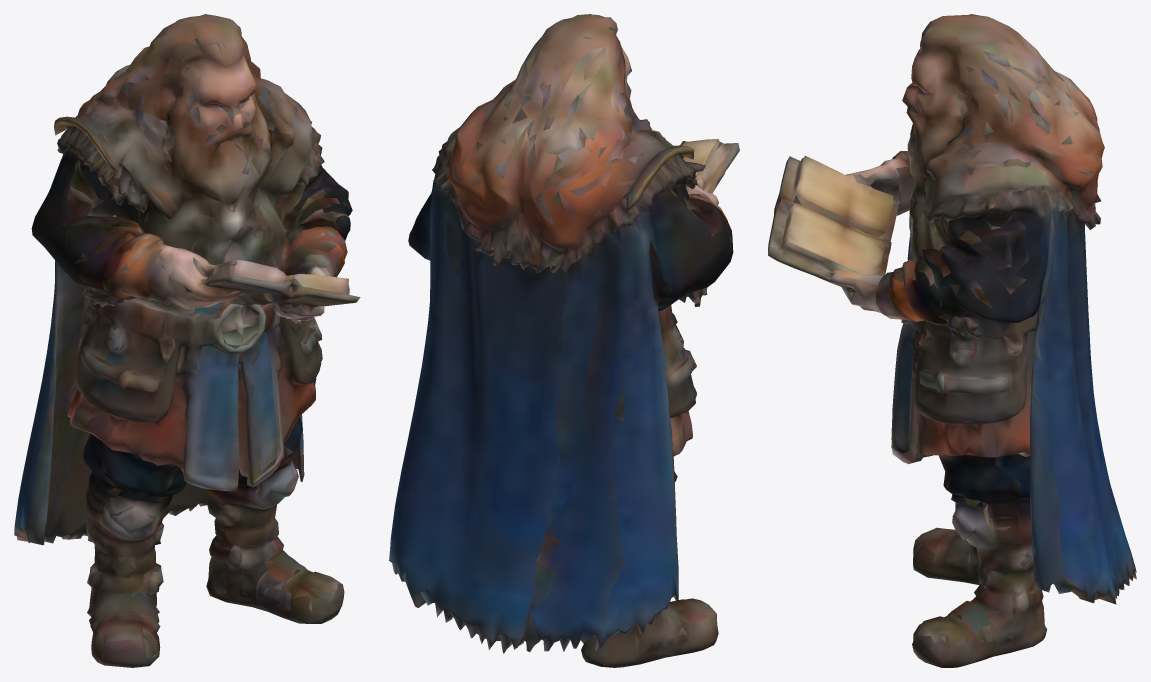
Rendered from Barnabus_final.glb.
3 renders of one model, left to right at view 1: azimuth 30°, elevation 25°; view 2: azimuth 150°, elevation 25°; view 3: azimuth 270°, elevation 25°, orthographic. The views are drawn at different scales.
Visible parts, largest first — view 1: Mesh_0; view 2: Mesh_0; view 3: Mesh_0.
Boxes of the visible parts, x1,y1,x2,y2 form: Mesh_0: (14,14,360,667); Mesh_0: (389,14,739,667); Mesh_0: (768,14,1136,667).
Size of the model in its own units: 0.7589 by 1.5 by 0.8483.
1 material, 1 textured.
